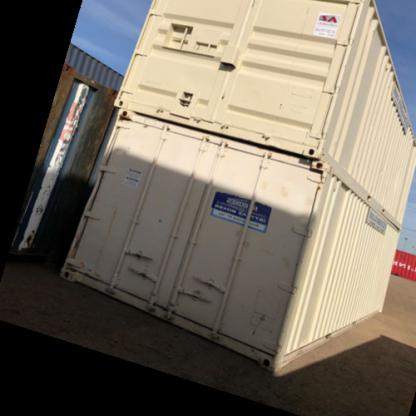Damage: (92, 268, 253, 316)
